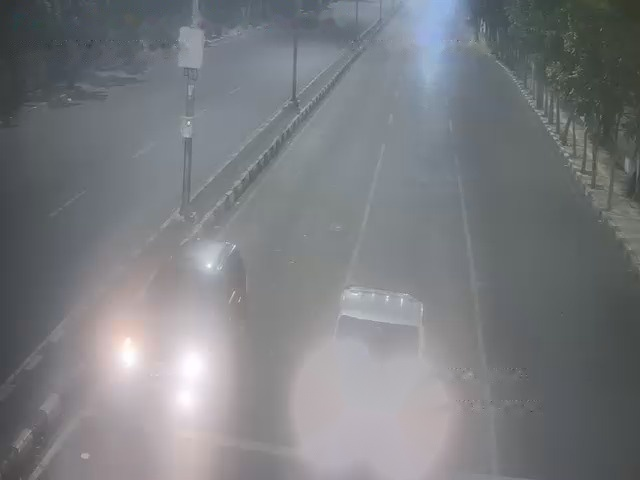Mobil: (124, 245, 242, 408), (330, 272, 430, 438)
